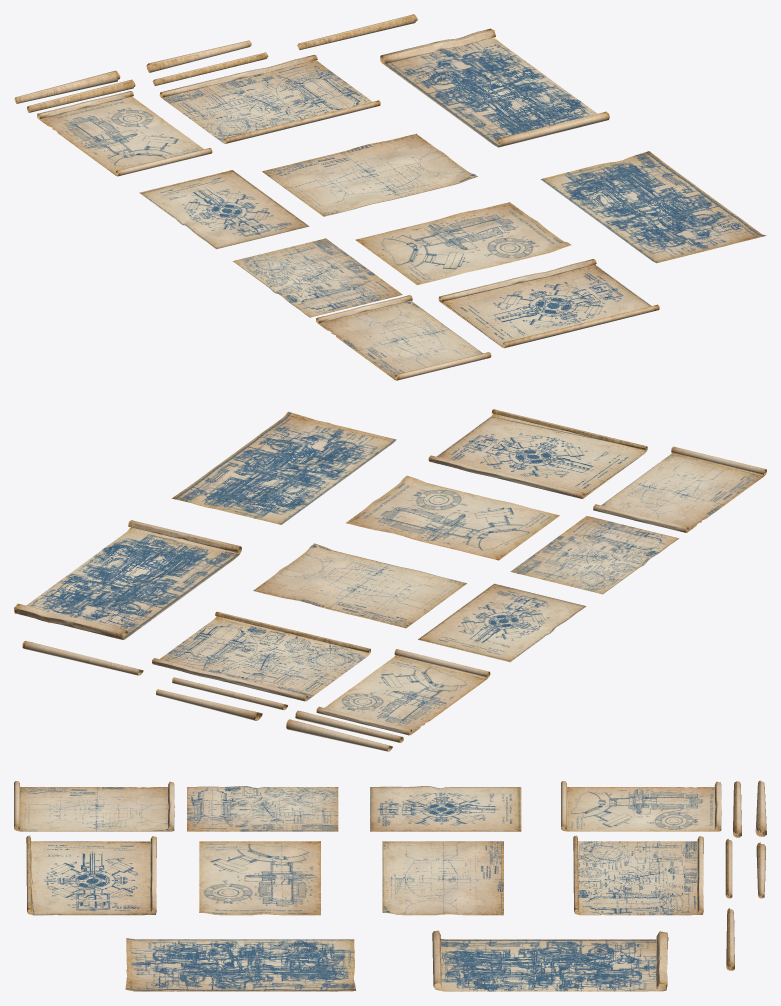
The model's file is Blueprints.fbx.
3 renders of one model, top to bottom at view 1: azimuth 30°, elevation 25°; view 2: azimuth 150°, elevation 25°; view 3: azimuth 270°, elevation 25°, orthographic. The views are drawn at different scales.
Parts seen in each view (by area): view 1: Plane.001, Plane.014, Plane.004, Plane.012, Plane.010, Plane.002, Plane.013, Plane.005, Plane.011, Plane.003, Plane.006, Plane.009 (+3 smaller); view 2: Plane.001, Plane.014, Plane.012, Plane.004, Plane.002, Plane.010, Plane.005, Plane.013, Plane.011, Plane.003, Plane.006, Plane.009 (+3 smaller); view 3: Plane.001, Plane.014, Plane.004, Plane.012, Plane.010, Plane.002, Plane.005, Plane.013, Plane.011, Plane.003, Plane.009, Plane.006 (+3 smaller).
Part boxes in pixels (x1=…): Plane.001: x1=380, y1=28, x2=609, y2=147; Plane.014: x1=540, y1=151, x2=766, y2=263; Plane.004: x1=159, y1=55, x2=380, y2=143; Plane.012: x1=438, y1=259, x2=659, y2=348; Plane.010: x1=355, y1=202, x2=571, y2=285; Plane.002: x1=262, y1=133, x2=477, y2=216; Plane.013: x1=316, y1=295, x2=491, y2=380; Plane.005: x1=37, y1=91, x2=212, y2=176; Plane.011: x1=233, y1=238, x2=402, y2=317; Plane.003: x1=139, y1=170, x2=309, y2=249; Plane.006: x1=297, y1=14, x2=417, y2=50; Plane.009: x1=14, y1=70, x2=120, y2=103; Plane.001: x1=14, y1=520, x2=241, y2=639; Plane.014: x1=172, y1=411, x2=396, y2=524; Plane.012: x1=428, y1=409, x2=647, y2=498; Plane.004: x1=152, y1=611, x2=370, y2=701; Plane.002: x1=253, y1=543, x2=466, y2=628; Plane.010: x1=346, y1=475, x2=559, y2=560; Plane.005: x1=316, y1=649, x2=490, y2=735; Plane.013: x1=593, y1=446, x2=766, y2=532; Plane.011: x1=510, y1=516, x2=678, y2=594; Plane.003: x1=418, y1=583, x2=586, y2=662; Plane.006: x1=22, y1=640, x2=143, y2=675; Plane.009: x1=286, y1=719, x2=392, y2=751; Plane.001: x1=432, y1=930, x2=668, y2=991; Plane.014: x1=125, y1=938, x2=355, y2=991; Plane.004: x1=573, y1=835, x2=703, y2=915; Plane.012: x1=26, y1=835, x2=156, y2=915; Plane.010: x1=199, y1=841, x2=320, y2=915; Plane.002: x1=382, y1=841, x2=503, y2=915; Plane.005: x1=561, y1=781, x2=721, y2=831; Plane.013: x1=14, y1=781, x2=174, y2=831; Plane.011: x1=187, y1=786, x2=338, y2=831; Plane.003: x1=370, y1=786, x2=521, y2=831; Plane.009: x1=755, y1=780, x2=766, y2=836; Plane.006: x1=726, y1=908, x2=734, y2=970.
Bounding box in the file's own units: 297 × 7.22 × 461.
